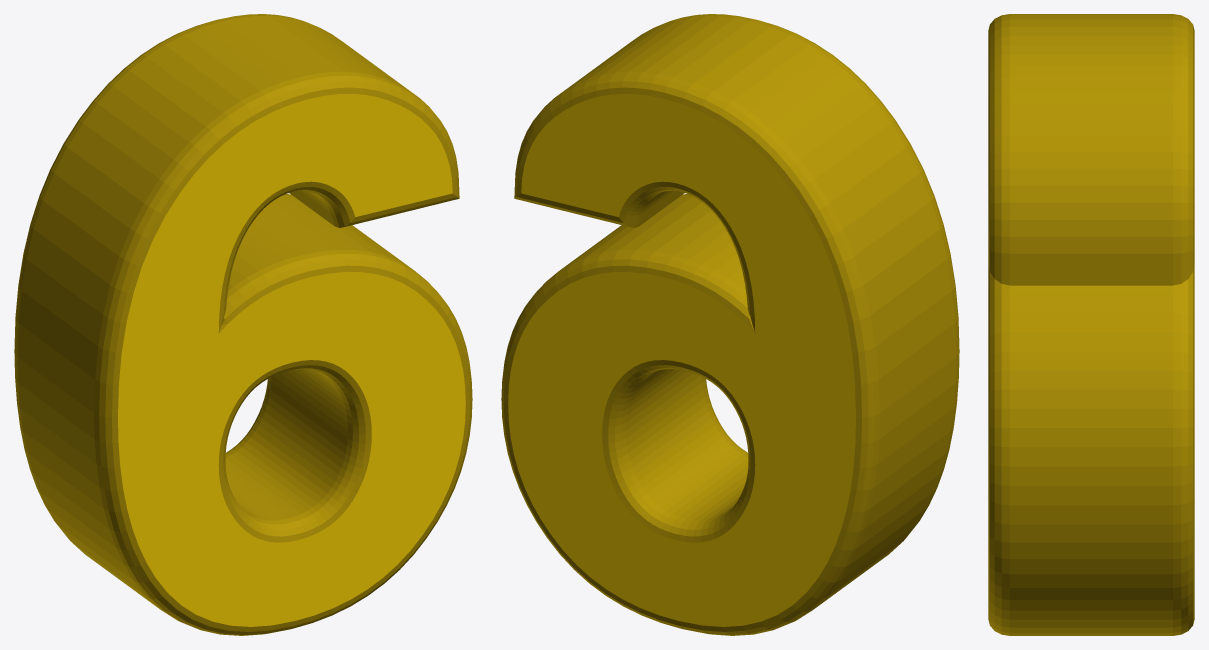
3 views of the same model, side by side, from view 1: azimuth 30°, elevation 25°; view 2: azimuth 150°, elevation 25°; view 3: azimuth 270°, elevation 25° (orthographic). The views are drawn at different scales.
Size of the model in its own units: 0.9625 by 1.34 by 0.43.
